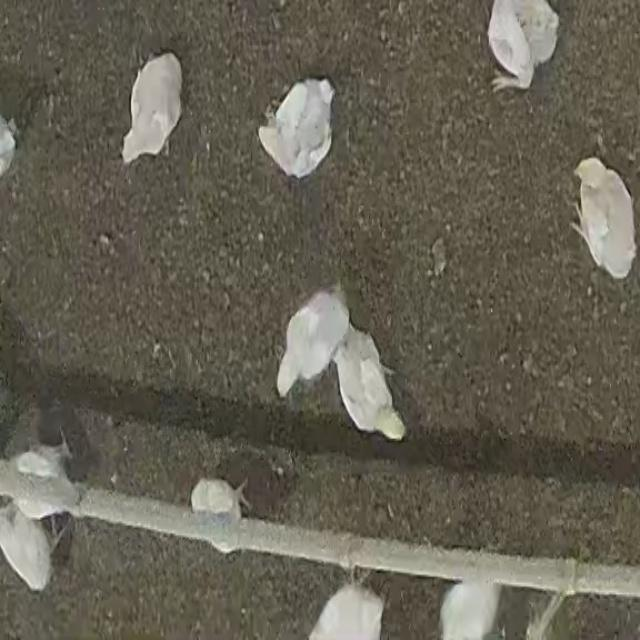chicken: (256, 79, 337, 182), (337, 332, 408, 445), (274, 294, 347, 400), (120, 47, 187, 162), (574, 157, 636, 281), (485, 0, 560, 92), (2, 508, 55, 593), (192, 479, 250, 553), (12, 444, 70, 518), (308, 584, 382, 640), (441, 580, 506, 640)
